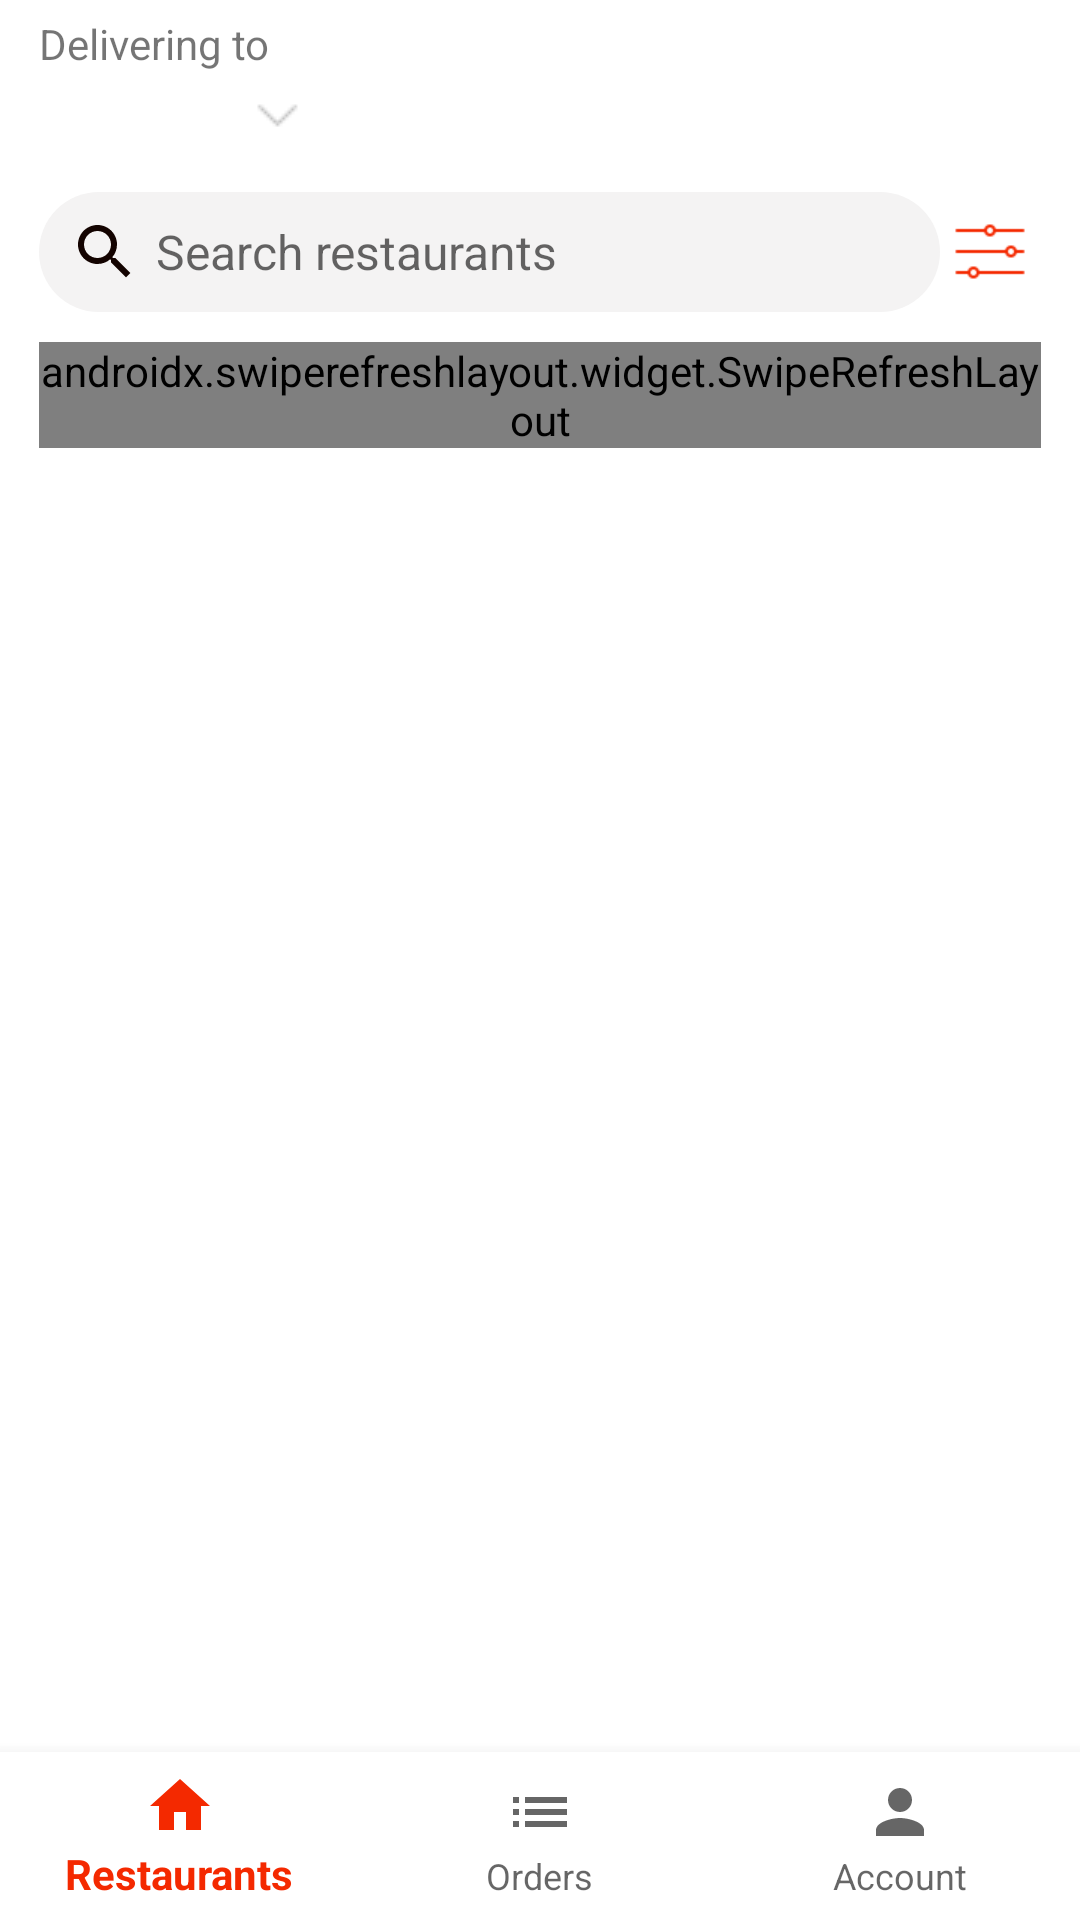

Icons on this 1080x1920 Android screen, each with the point to tap as (x=x, y=y):
filter: (x=990, y=251)
